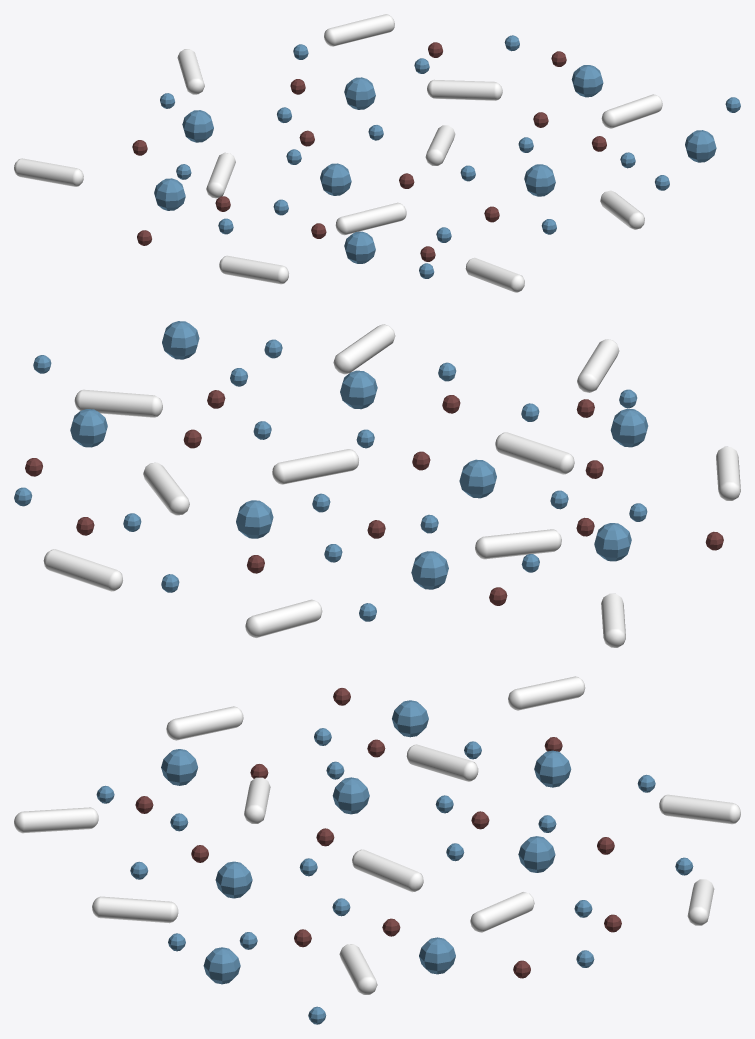
The model's file is SM_pieropelu2.fbx.
3 views of the same model, one above another, from view 1: azimuth 30°, elevation 25°; view 2: azimuth 150°, elevation 25°; view 3: azimuth 270°, elevation 25° (orthographic). The views are drawn at different scales.
Visible parts, largest first — view 1: SM_pieropelu2; view 2: SM_pieropelu2; view 3: SM_pieropelu2.
Boxes of the visible parts, bbox=[...] form: SM_pieropelu2: bbox=[14, 14, 740, 292]; SM_pieropelu2: bbox=[14, 321, 740, 647]; SM_pieropelu2: bbox=[14, 676, 740, 1024].
Bounding box in the file's own units: 614 × 30.61 × 559.
